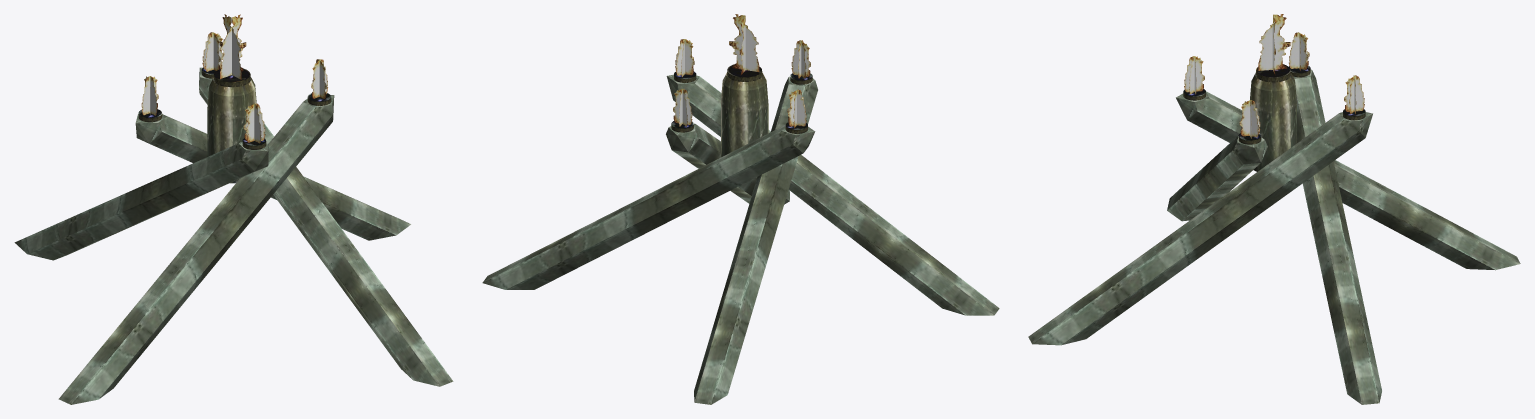
The model's file is OlympicFlame.fbx.
3 views of the same model, side by side, from view 1: azimuth 30°, elevation 25°; view 2: azimuth 150°, elevation 25°; view 3: azimuth 270°, elevation 25° (orthographic). The views are drawn at different scales.
Visible parts, largest first — view 1: Component_4_1, Component_4_2, Component_4_4, Component_4_3, Model, Component_3_2, Component_3_1; view 2: Component_4_3, Component_4_1, Component_4_4, Model, Component_4_2, Component_3_2; view 3: Component_4_2, Component_4_3, Component_4_4, Component_4_1, Model, Component_3_1.
Boxes of the visible parts, <box> form: Component_4_1: <box>58,93,334,404</box>; Component_4_2: <box>199,67,453,386</box>; Component_4_4: <box>14,138,268,260</box>; Component_4_3: <box>135,109,410,240</box>; Model: <box>207,68,256,183</box>; Component_3_2: <box>220,14,246,78</box>; Component_3_1: <box>219,14,241,79</box>; Component_4_3: <box>482,122,815,289</box>; Component_4_1: <box>666,71,999,315</box>; Component_4_4: <box>694,73,817,404</box>; Model: <box>721,64,768,157</box>; Component_4_2: <box>666,121,789,204</box>; Component_3_2: <box>729,14,759,71</box>; Component_4_2: <box>1028,109,1372,345</box>; Component_4_3: <box>1289,65,1381,404</box>; Component_4_4: <box>1176,89,1520,270</box>; Component_4_1: <box>1167,133,1267,221</box>; Model: <box>1250,64,1296,171</box>; Component_3_1: <box>1258,14,1290,70</box>.
Bounding box in the file's own units: 19.24 × 12.25 × 19.23.
7 materials, 7 textured.
